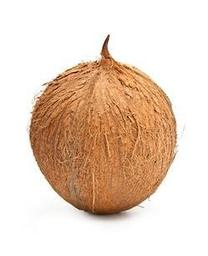coconut: (30, 58, 176, 217)
